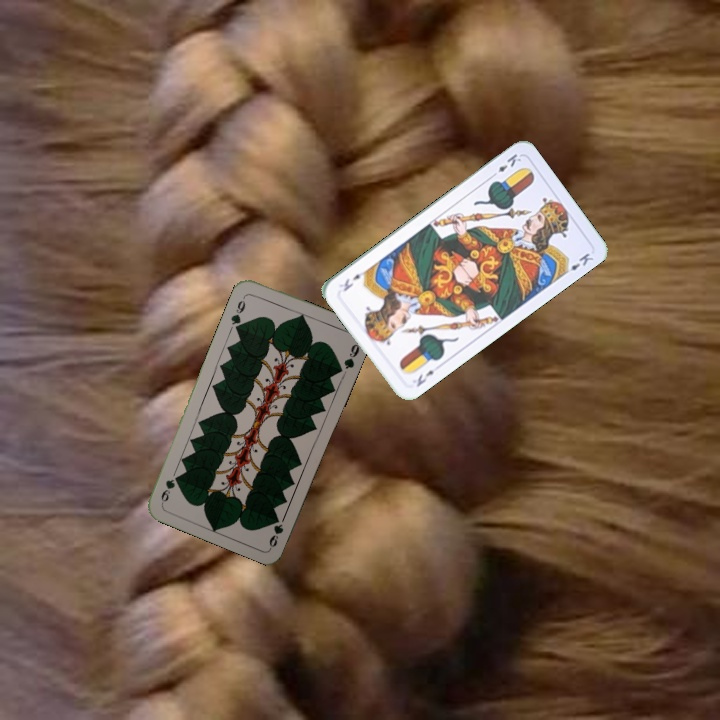EK: (487, 150, 524, 180), (412, 366, 437, 390)
G9: (227, 296, 248, 332), (265, 520, 286, 550)
